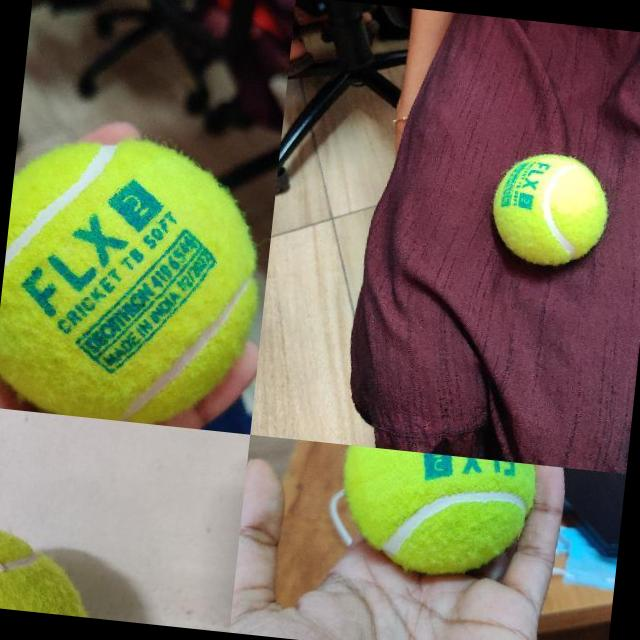Tennis Ball: (0, 130, 271, 432), (334, 444, 538, 583), (488, 150, 612, 270), (0, 522, 109, 617)
